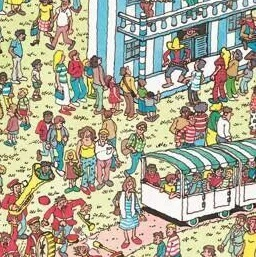waldo: (178, 111, 199, 146), (186, 112, 197, 128)
